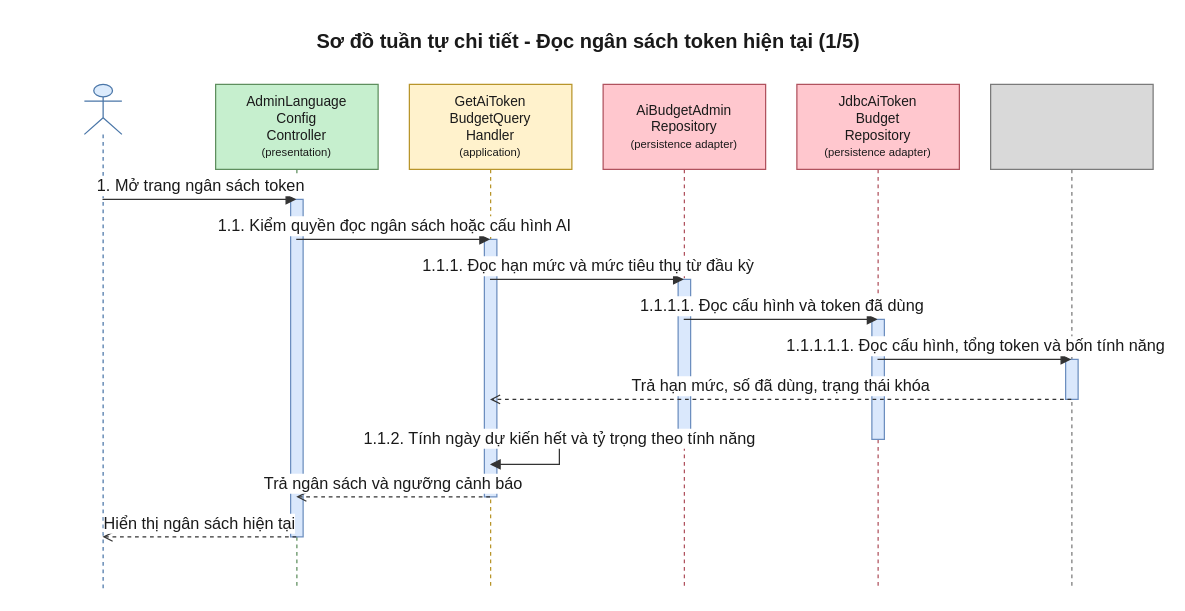
Some shapes in this 1185 by 611 pixel diagram are drawn without their labels. Here are the shapes that lost their labels. From the top down, the box of each, then its label:
(83, 83, 122, 589): Quản trị viên
(989, 83, 1153, 589): PostgreSQL (schema ai)
